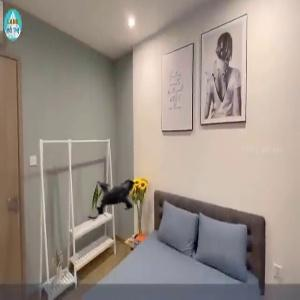drone: (76, 155, 152, 231)
